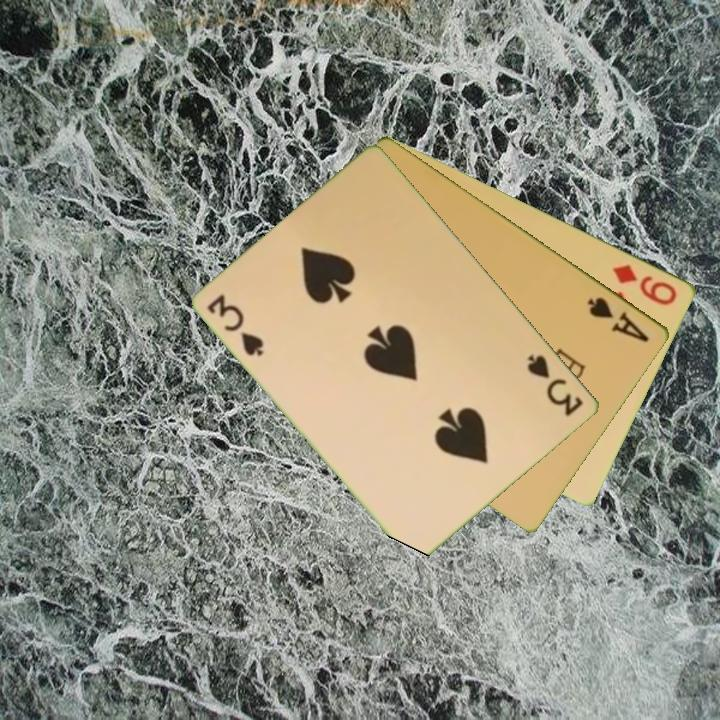3s: (204, 290, 268, 360), (524, 351, 587, 420)
9d: (609, 260, 681, 309)
As: (584, 293, 653, 345)
